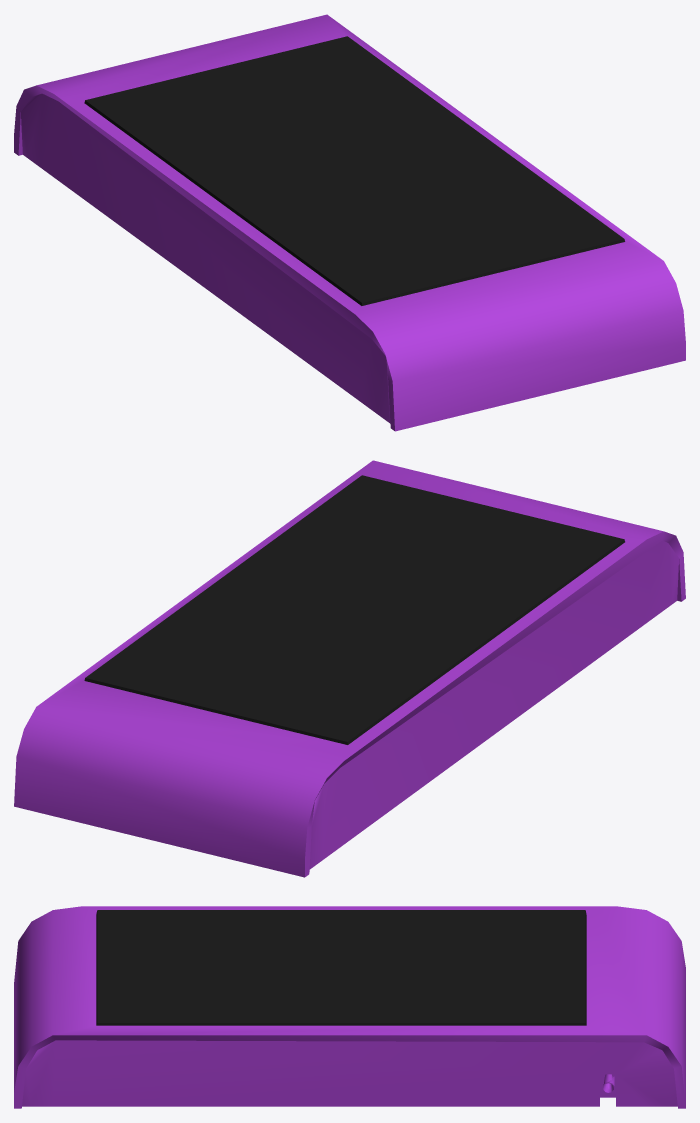
File: keylock_2.fbx
3 renders of one model, top to bottom at view 1: azimuth 30°, elevation 25°; view 2: azimuth 150°, elevation 25°; view 3: azimuth 270°, elevation 25°, orthographic. The views are drawn at different scales.
Parts seen in each view (by area): view 1: keylock_002_LOD0; view 2: keylock_002_LOD0; view 3: keylock_002_LOD0.
Boxes of the visible parts, box(x1,y1,x2,y2) form: keylock_002_LOD0: box(14, 14, 685, 431); keylock_002_LOD0: box(14, 460, 685, 877); keylock_002_LOD0: box(14, 906, 685, 1108).
Size of what is drawn, in the model's own units: 5.2 by 1.55 by 11.8.
